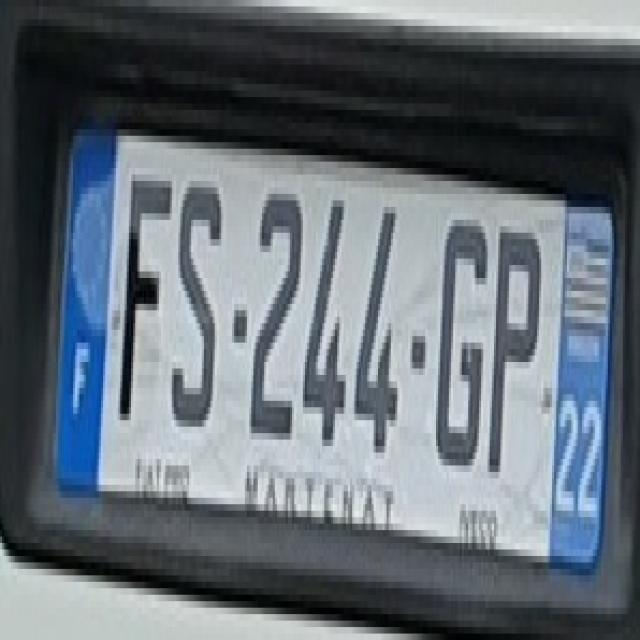EU: (54, 120, 610, 565)
France: (48, 125, 118, 488)
